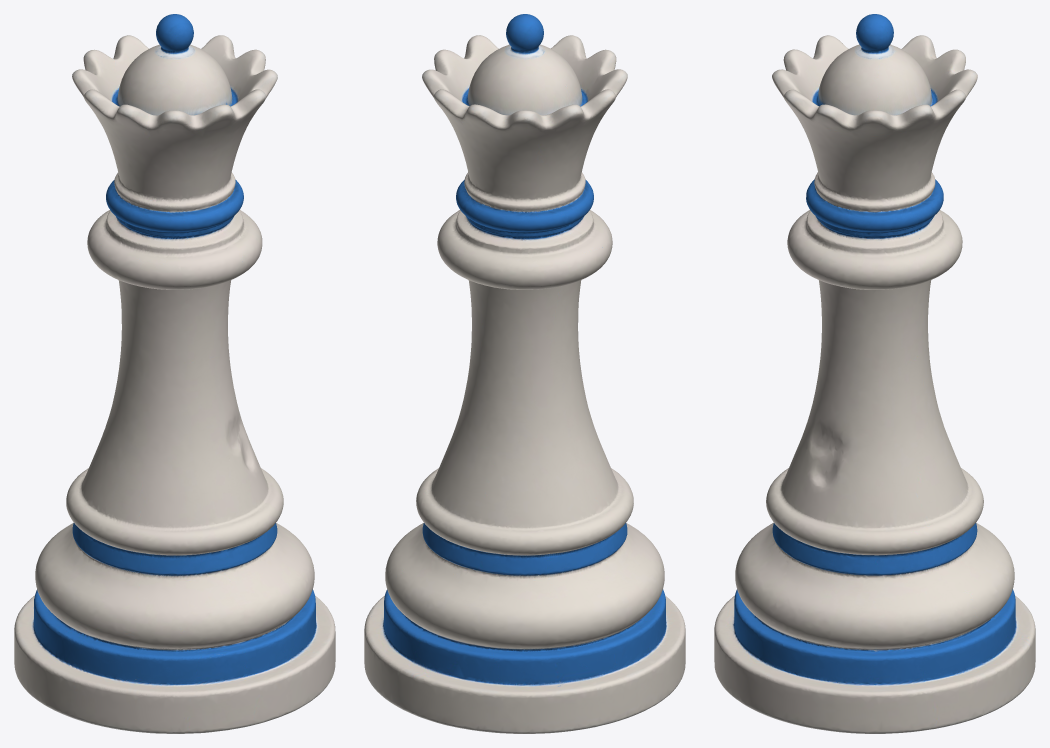
The model's file is queen.glb.
3 renders of one model, left to right at view 1: azimuth 30°, elevation 25°; view 2: azimuth 150°, elevation 25°; view 3: azimuth 270°, elevation 25°, orthographic.
Size of the model in its own units: 0.8479 by 1.9 by 0.8481.
Materials: 1 (1 with a texture image).
